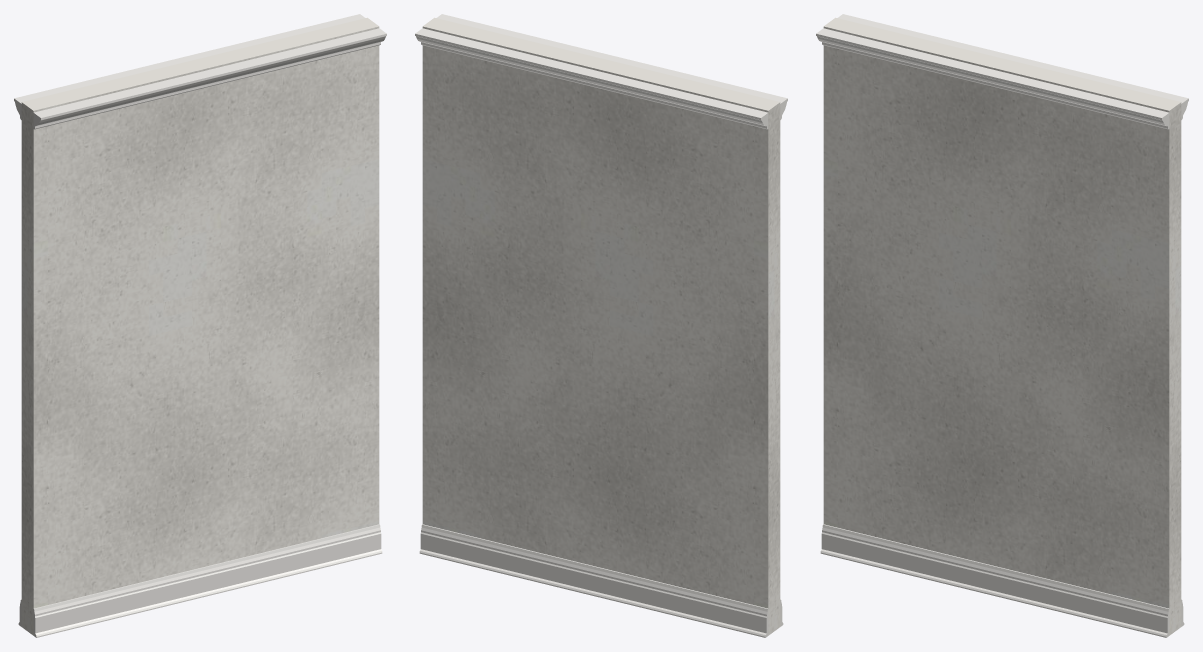
File: interior_wall_plain.glb
3 views of the same model, side by side, from view 1: azimuth 30°, elevation 25°; view 2: azimuth 150°, elevation 25°; view 3: azimuth 330°, elevation 25° (orthographic).
Parts seen in each view (by area): view 1: interior_wall_plain_plaster, molduras; view 2: interior_wall_plain_plaster, molduras; view 3: interior_wall_plain_plaster, molduras.
Part boxes in pixels (x1,y1,x2,y2): interior_wall_plain_plaster: [21, 17, 379, 635]; molduras: [14, 14, 386, 637]; interior_wall_plain_plaster: [422, 17, 780, 635]; molduras: [415, 14, 787, 637]; interior_wall_plain_plaster: [823, 17, 1181, 635]; molduras: [816, 14, 1188, 637].
Size of the model in its own units: 2 by 2.9 by 0.27.
2 materials, 1 textured.
